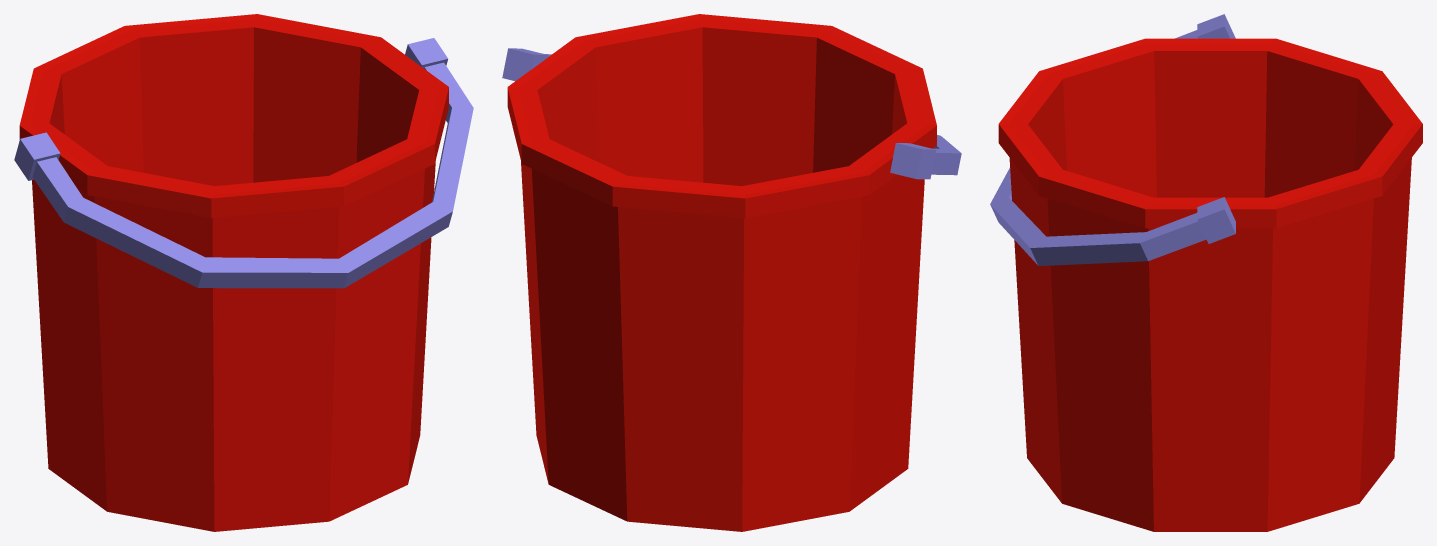
File: bucket.fbx
The picture shows the model from 3 angles, left to right: view 1: azimuth 30°, elevation 25°; view 2: azimuth 150°, elevation 25°; view 3: azimuth 270°, elevation 25°; orthographic projection. The views are drawn at different scales.
Parts seen in each view (by area): view 1: Cylinder, Cube; view 2: Cylinder, Cube; view 3: Cylinder, Cube.
Boxes of the visible parts, x1,y1,x2,y2 form: Cylinder: (19,14,448,531); Cube: (14,38,473,288); Cylinder: (507,14,936,531); Cube: (502,48,961,179); Cylinder: (998,38,1422,531); Cube: (990,14,1235,266).
Bounding box in the file's own units: 0.4003 × 0.3312 × 0.3749.
